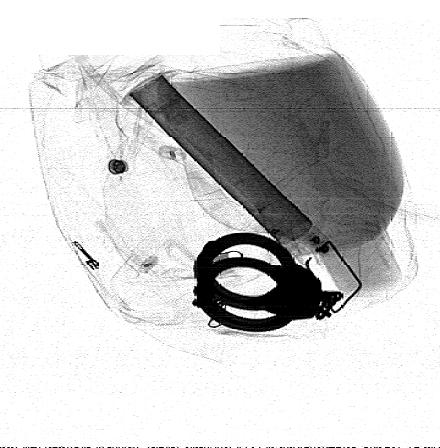HandCuffs: (191, 232, 344, 333)
